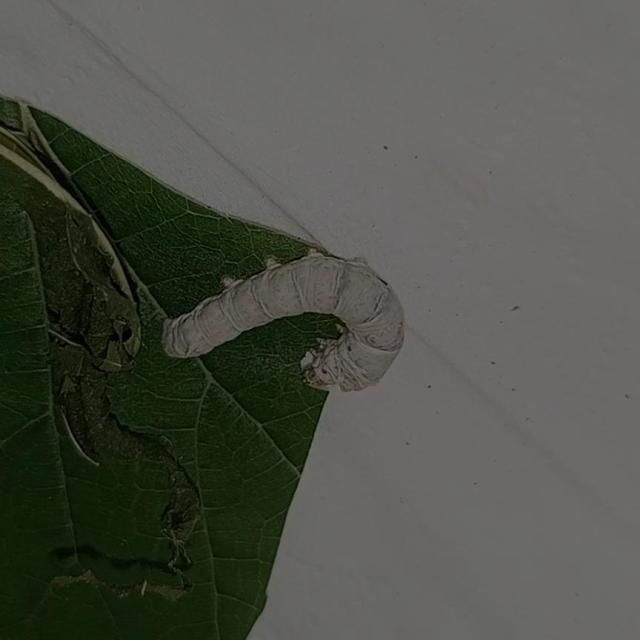Healthy: (154, 241, 409, 400)
